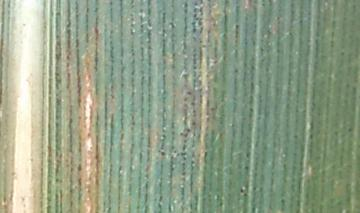tarspot: (194, 16, 204, 26), (346, 124, 354, 135), (53, 10, 62, 19), (244, 150, 252, 160), (242, 164, 250, 173), (92, 26, 100, 35), (76, 162, 82, 173), (159, 150, 167, 158), (248, 105, 254, 115), (198, 5, 204, 15), (183, 131, 190, 139), (308, 132, 314, 141), (267, 1, 274, 8), (20, 21, 27, 28), (198, 26, 204, 34), (192, 6, 198, 14), (239, 185, 244, 194), (291, 134, 300, 139), (233, 67, 239, 74), (275, 14, 281, 21), (260, 2, 266, 9), (185, 90, 192, 96), (191, 26, 197, 33), (190, 119, 196, 126), (339, 50, 345, 57), (287, 30, 293, 37), (298, 18, 304, 25), (344, 81, 349, 89), (234, 23, 240, 29), (192, 65, 198, 71), (84, 6, 90, 12), (185, 127, 192, 132), (193, 1, 199, 6), (179, 131, 183, 137), (199, 1, 203, 5), (260, 1, 266, 2)
